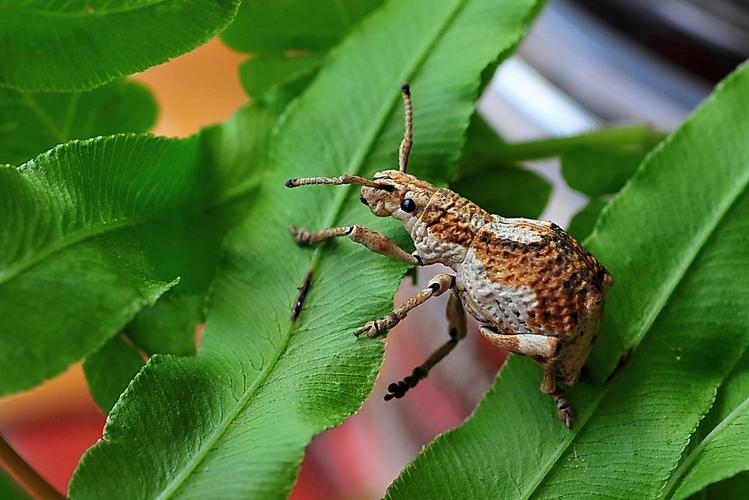Curculionidae: (282, 84, 615, 429)
